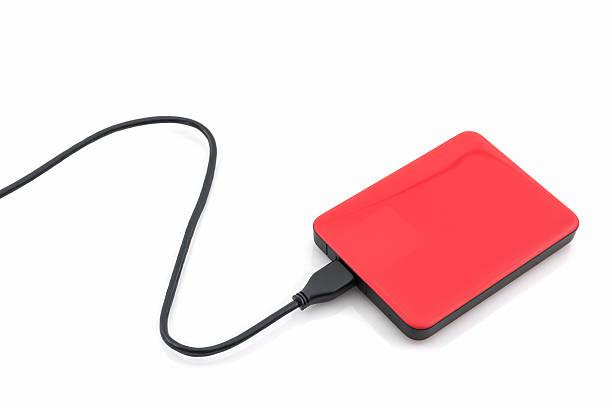HDD: (312, 131, 581, 342)
